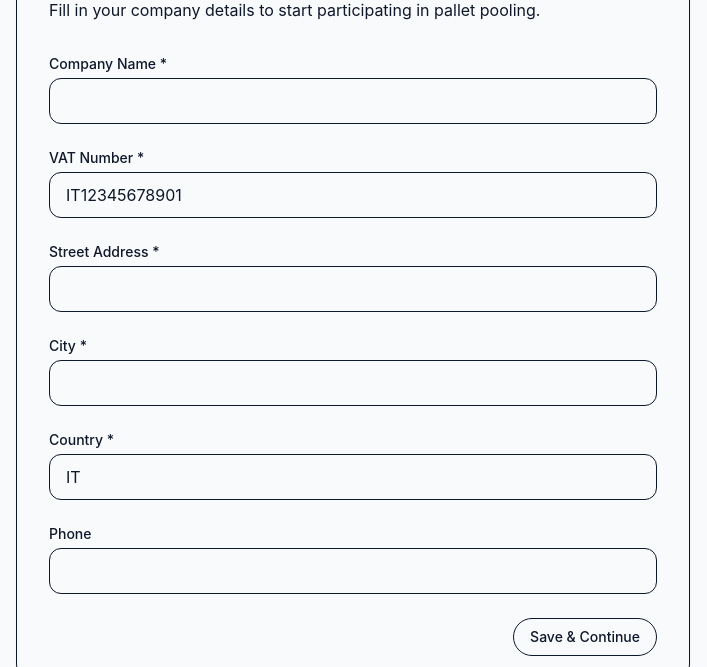
Scenario: BuyerProfileForm - complete mode › validation › clears a field error when the user types in it
(page scrolled)
Click the button "Save & Continue": (585, 637) [513, 618, 657, 656]
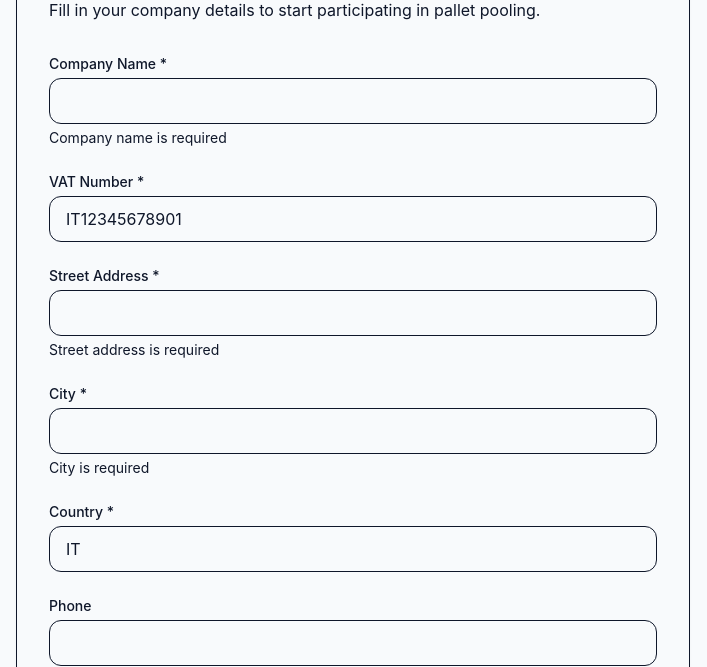
Check: the text "Company name is required" is shown, box [49, 129, 227, 146]
In the field labelled "Company Name *": (353, 101) [49, 78, 657, 124], type "Acme SRL"
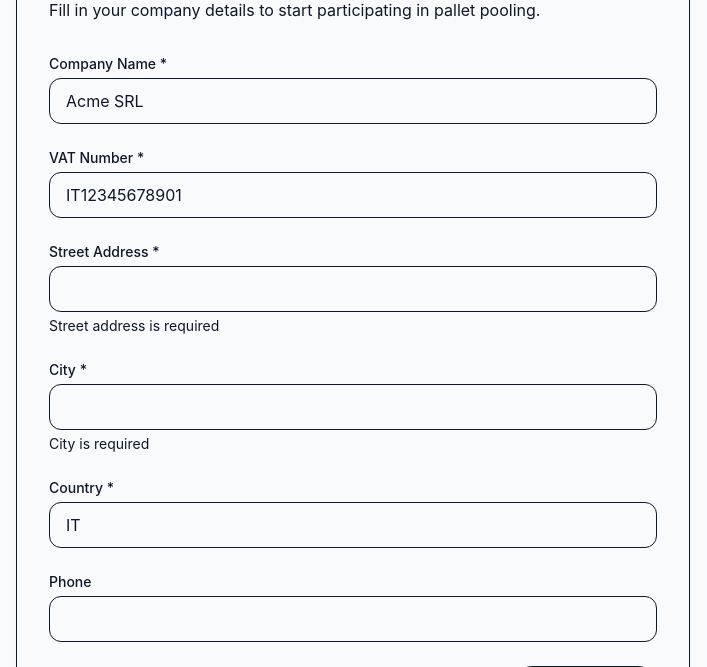
Check: the text "Company name is required" is gone
